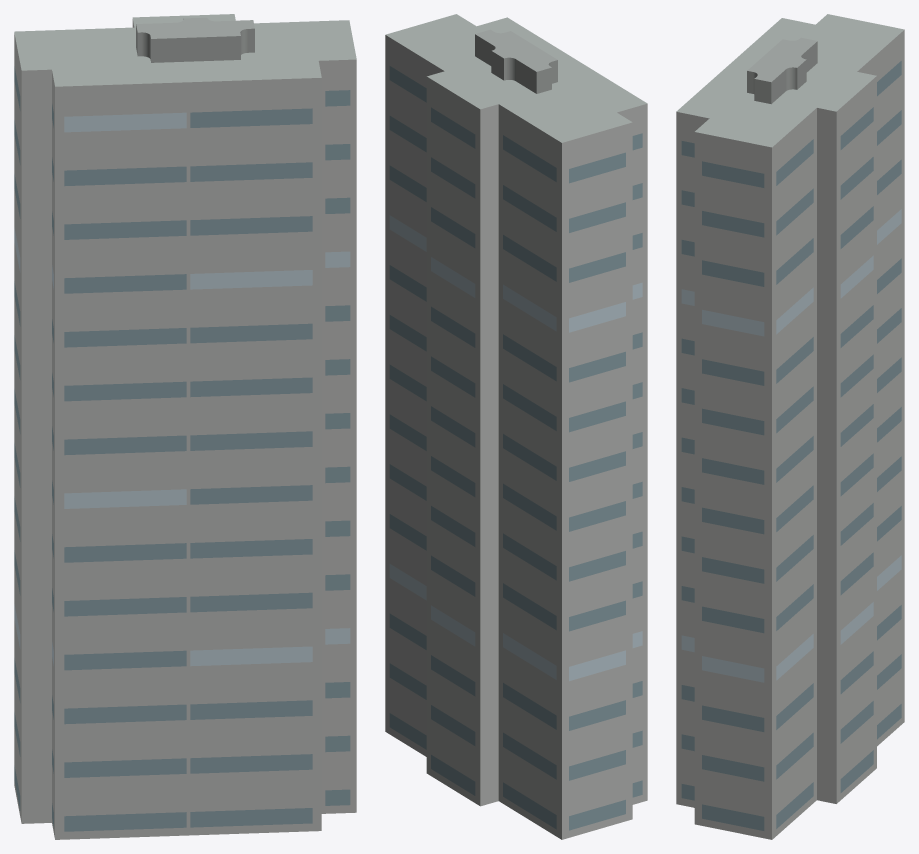
The model's file is fallback-banpo-xi-136.glb.
3 views of the same model, side by side, from view 1: azimuth 30°, elevation 25°; view 2: azimuth 150°, elevation 25°; view 3: azimuth 270°, elevation 25° (orthographic). The views are drawn at different scales.
Visible parts, largest first — view 1: fallback-banpo-xi-136; view 2: fallback-banpo-xi-136; view 3: fallback-banpo-xi-136.
Part boxes in pixels (bbox=[...]): fallback-banpo-xi-136: bbox=[14, 14, 356, 839]; fallback-banpo-xi-136: bbox=[385, 14, 647, 839]; fallback-banpo-xi-136: bbox=[676, 14, 904, 839].
Bounding box in the file's own units: 31.26 × 78 × 22.62.
